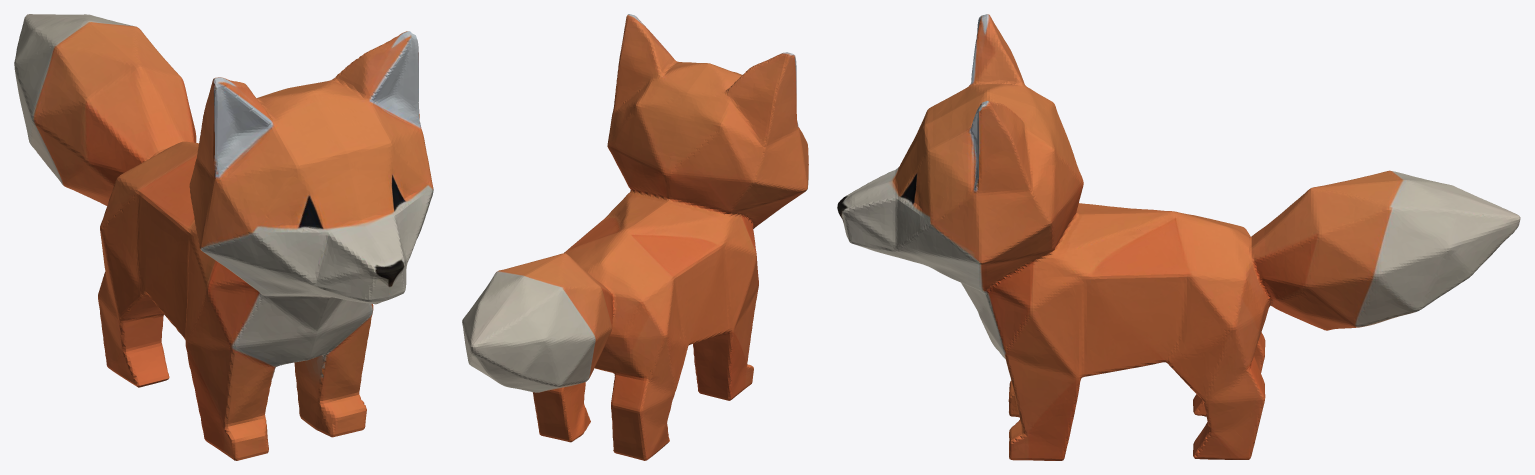
The model's file is fox_1772537939501.glb.
3 renders of one model, left to right at view 1: azimuth 30°, elevation 25°; view 2: azimuth 150°, elevation 25°; view 3: azimuth 270°, elevation 25°, orthographic. The views are drawn at different scales.
Visible parts, largest first — view 1: demo_textured.obj; view 2: demo_textured.obj; view 3: demo_textured.obj.
Part boxes in pixels (bbox=[...]): demo_textured.obj: bbox=[14, 14, 433, 460]; demo_textured.obj: bbox=[462, 14, 808, 460]; demo_textured.obj: bbox=[837, 14, 1520, 460].
Bounding box in the file's own units: 0.727 × 1.2 × 1.99.
1 material, 1 textured.
